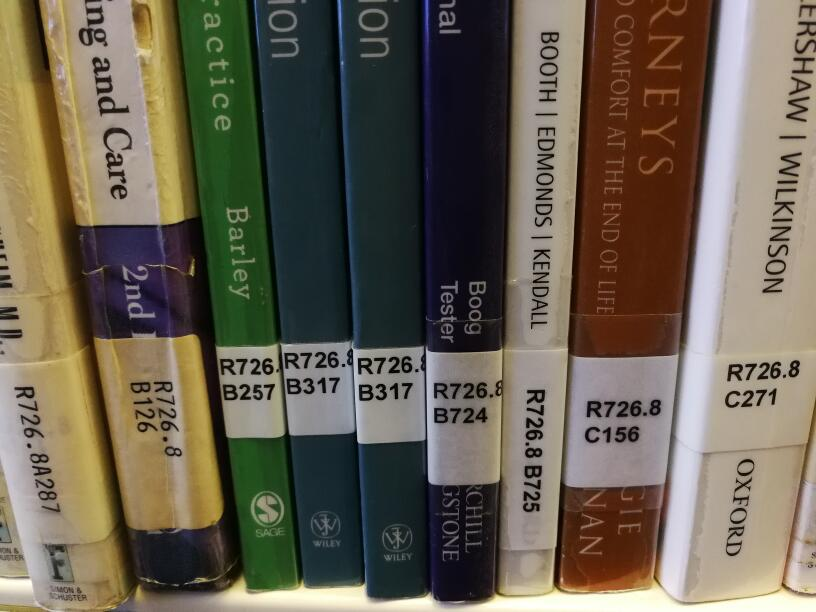booklabel: (11, 385, 63, 514), (126, 380, 182, 458), (722, 358, 801, 408), (583, 399, 662, 444), (431, 379, 504, 427), (518, 386, 545, 511), (282, 350, 354, 396), (356, 356, 426, 403), (217, 357, 280, 403)
